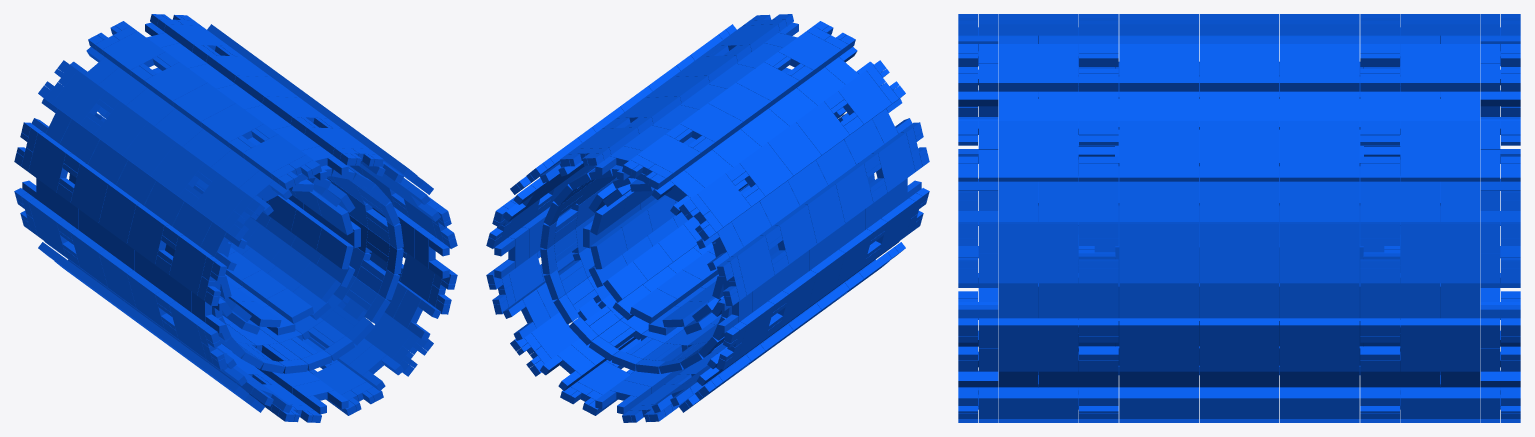
Rendered from barrel-chambers.obj.
3 views of the same model, side by side, from view 1: azimuth 30°, elevation 25°; view 2: azimuth 150°, elevation 25°; view 3: azimuth 270°, elevation 25° (orthographic). The views are drawn at different scales.
Visible parts, largest first — view 1: chamber_B3_F09_Z00_z1_MERGED, chamber_B3_F09_Z04, chamber_B3_F11_Z00_z1_MERGED, chamber_B3_F11_Z04, chamber_B3_F09_Z05_z1_MERGED, chamber_B3_F09_Z02, chamber_B3_F09_Z03, chamber_B3_F07_Z04, chamber_B3_F07_Z00_z1_MERGED, chamber_B3_F11_Z02, chamber_B3_F11_Z05_z1_MERGED, chamber_B3_F11_Z03 (+67 smaller); view 2: chamber_B3_F09_Z02, chamber_B3_F09_Z05_z1_MERGED, chamber_B3_F11_Z05_z1_MERGED, chamber_B3_F11_Z02, chamber_B3_F09_Z00_z1_MERGED, chamber_B3_F09_Z04, chamber_B3_F09_Z03, chamber_B3_F07_Z02, chamber_B3_F07_Z05_z1_MERGED, chamber_B3_F11_Z04, chamber_B3_F11_Z00_z1_MERGED, chamber_B3_F11_Z03 (+67 smaller); view 3: chamber_B3_F01_Z00_z1_MERGED, chamber_B3_F01_Z05_z1_MERGED, chamber_B3_F01_Z03, chamber_B3_F01_Z02, chamber_B3_F01_Z04, chamber_B3_F03_Z00_z1_MERGED, chamber_B3_F03_Z03, chamber_B3_F03_Z05_z1_MERGED, chamber_B3_F03_Z02, chamber_B3_F03_Z04, chamber_B3_F23_Z00_z1_MERGED, chamber_B3_F23_Z03 (+89 smaller).
Part boxes in pixels (box(x1,y1,x2,y2)): chamber_B3_F09_Z00_z1_MERGED: box(52, 70, 105, 126); chamber_B3_F09_Z04: box(150, 142, 203, 198); chamber_B3_F11_Z00_z1_MERGED: box(28, 132, 71, 192); chamber_B3_F11_Z04: box(127, 205, 170, 264); chamber_B3_F09_Z05_z1_MERGED: box(193, 173, 246, 228); chamber_B3_F09_Z02: box(94, 101, 147, 157); chamber_B3_F09_Z03: box(122, 122, 175, 178); chamber_B3_F07_Z04: box(201, 103, 263, 148); chamber_B3_F07_Z00_z1_MERGED: box(102, 31, 165, 76); chamber_B3_F11_Z02: box(70, 163, 113, 223); chamber_B3_F11_Z05_z1_MERGED: box(169, 235, 212, 295); chamber_B3_F11_Z03: box(98, 184, 142, 243); chamber_B3_F09_Z02: box(740, 142, 793, 198); chamber_B3_F09_Z05_z1_MERGED: box(838, 70, 891, 126); chamber_B3_F11_Z05_z1_MERGED: box(872, 132, 915, 192); chamber_B3_F11_Z02: box(773, 205, 816, 264); chamber_B3_F09_Z00_z1_MERGED: box(697, 173, 750, 228); chamber_B3_F09_Z04: box(796, 101, 849, 157); chamber_B3_F09_Z03: box(768, 122, 821, 178); chamber_B3_F07_Z02: box(680, 103, 742, 148); chamber_B3_F07_Z05_z1_MERGED: box(778, 31, 841, 76); chamber_B3_F11_Z04: box(830, 163, 873, 223); chamber_B3_F11_Z00_z1_MERGED: box(731, 235, 774, 295); chamber_B3_F11_Z03: box(801, 184, 845, 243); chamber_B3_F01_Z00_z1_MERGED: box(1400, 222, 1480, 283); chamber_B3_F01_Z05_z1_MERGED: box(998, 222, 1078, 283); chamber_B3_F01_Z03: box(1199, 222, 1279, 283); chamber_B3_F01_Z02: box(1280, 222, 1359, 283); chamber_B3_F01_Z04: box(1119, 222, 1198, 283); chamber_B3_F03_Z00_z1_MERGED: box(1400, 121, 1480, 181); chamber_B3_F03_Z03: box(1199, 121, 1279, 181); chamber_B3_F03_Z05_z1_MERGED: box(998, 121, 1078, 181); chamber_B3_F03_Z02: box(1280, 121, 1359, 181); chamber_B3_F03_Z04: box(1119, 121, 1198, 181); chamber_B3_F23_Z00_z1_MERGED: box(1400, 318, 1480, 371); chamber_B3_F23_Z03: box(1199, 318, 1279, 371).
Size of the model in its own units: 18.08 by 18.08 by 25.
